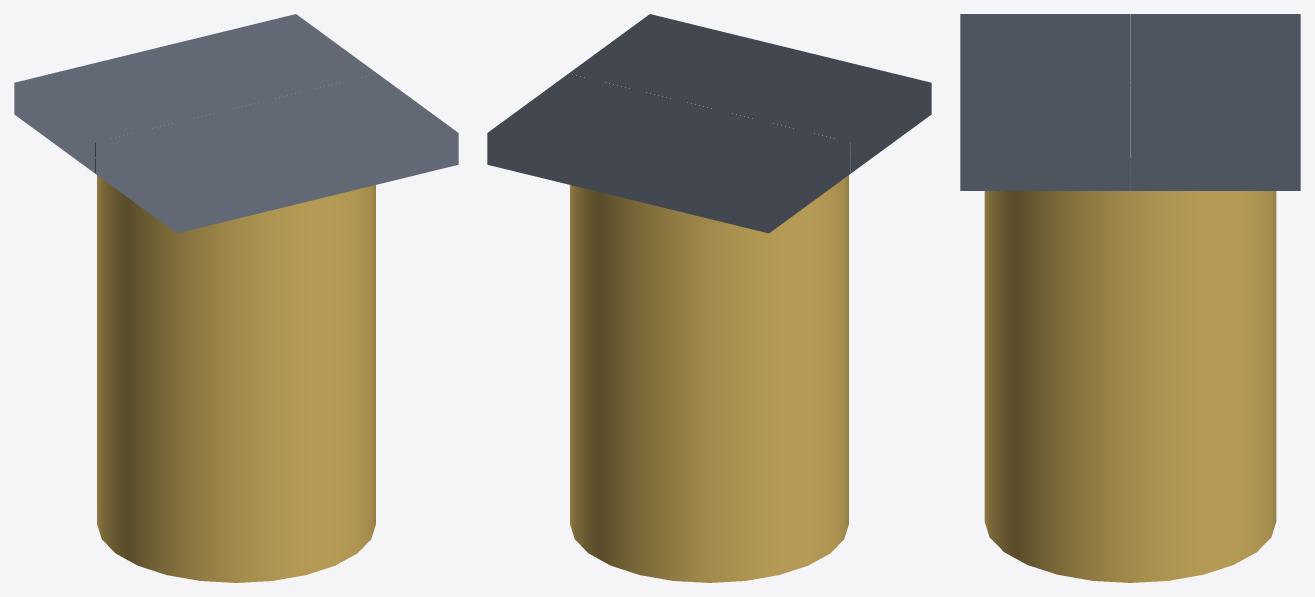
The model's file is spring_design.glb.
3 renders of one model, left to right at view 1: azimuth 30°, elevation 25°; view 2: azimuth 150°, elevation 25°; view 3: azimuth 270°, elevation 25°, orthographic. The views are drawn at different scales.
Visible parts, largest first — view 1: HelicalCoilSpring, CompressorPlates; view 2: HelicalCoilSpring, CompressorPlates; view 3: HelicalCoilSpring, CompressorPlates.
Part boxes in pixels (x1,y1,x2,y2): HelicalCoilSpring: (97,175,375,582); CompressorPlates: (14,14,458,233); HelicalCoilSpring: (570,175,848,582); CompressorPlates: (487,14,931,233); HelicalCoilSpring: (984,191,1276,582); CompressorPlates: (960,14,1300,190).
Bounding box in the file's own units: 1.4 × 1.97 × 1.4.
